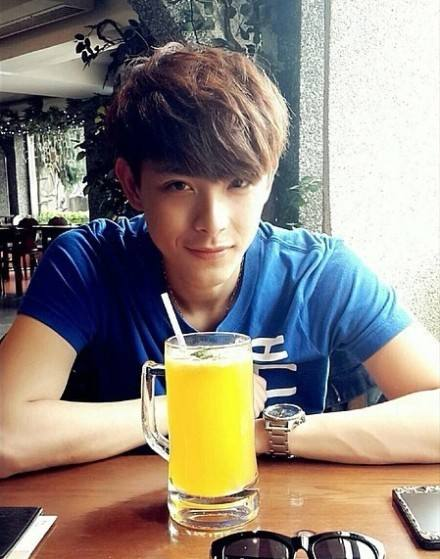person: (78, 55, 374, 443)
